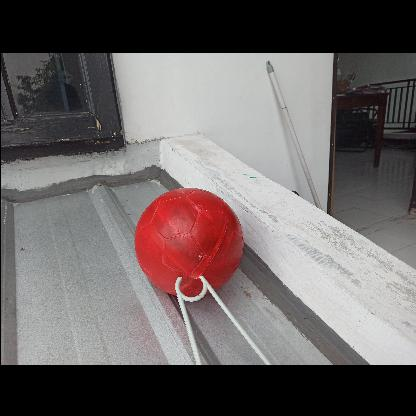red_ball: (132, 183, 242, 293)
